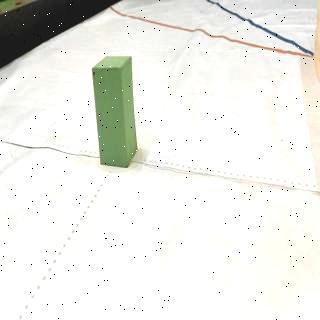greenbox: (92, 56, 136, 166)
